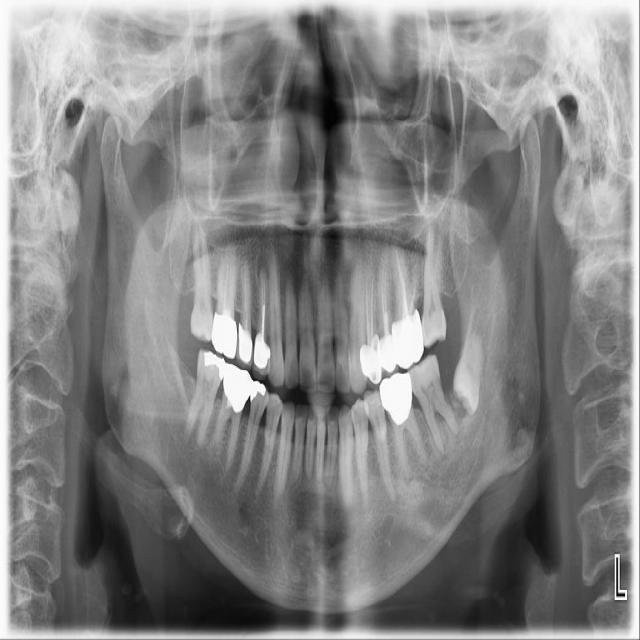52: (376, 368, 421, 433), (389, 309, 427, 371), (220, 363, 256, 414), (193, 346, 228, 395), (359, 342, 385, 395), (376, 330, 401, 382), (211, 310, 238, 358), (251, 332, 272, 381), (235, 322, 255, 371), (249, 379, 269, 419)
73: (387, 237, 426, 314), (373, 245, 393, 333), (362, 258, 380, 353), (215, 246, 238, 314), (256, 267, 270, 344), (238, 259, 251, 329), (582, 551, 584, 559)
BioHorizons Implant: (421, 217, 449, 349)
Biomet 3i Implant: (449, 323, 487, 417)
Blue Sky Bio Implant: (401, 349, 466, 460)
Caries: (188, 215, 217, 342)
Implant: (181, 346, 229, 450)
